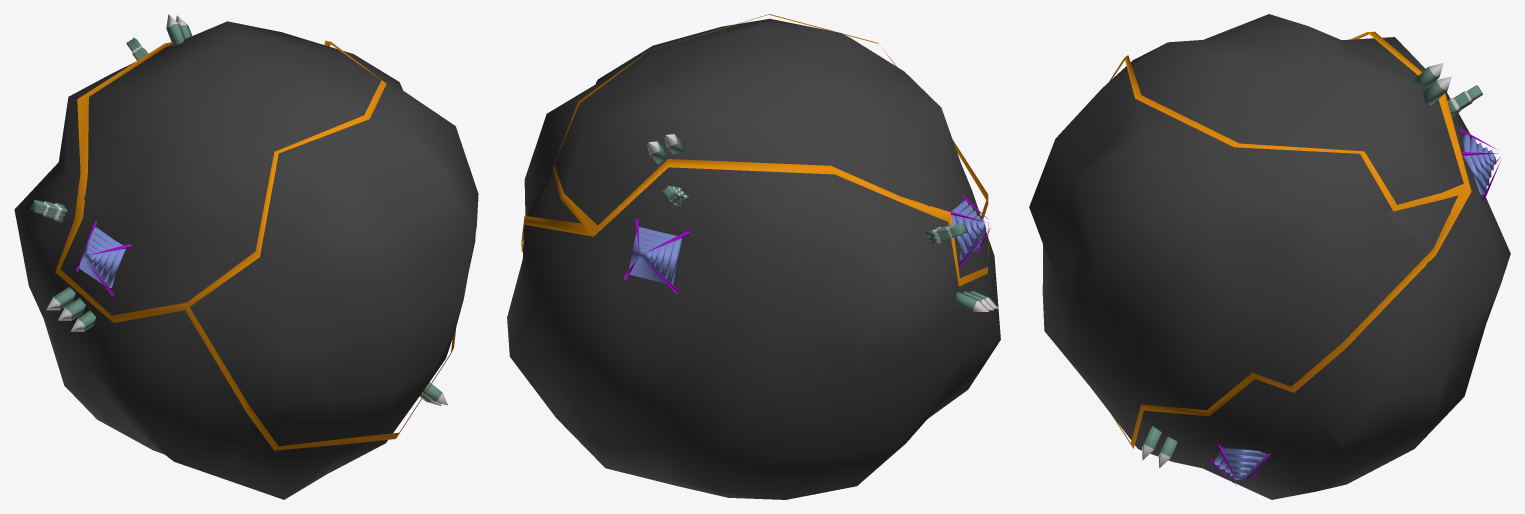
The model's file is cityplanet.fbx.
3 renders of one model, left to right at view 1: azimuth 30°, elevation 25°; view 2: azimuth 150°, elevation 25°; view 3: azimuth 270°, elevation 25°, orthographic. The views are drawn at different scales.
Visible parts, largest first — view 1: Icosphere, Plane, Cube_002; view 2: Icosphere, Plane, Cube, Cube_002; view 3: Icosphere, Plane, Cube, Cube_001.
Boxes of the visible parts, left/top/right/bottom form: Icosphere: left=14, top=14, right=478, bottom=499; Plane: left=55, top=40, right=456, bottom=450; Cube_002: left=76, top=221, right=131, bottom=296; Icosphere: left=507, top=18, right=1000, bottom=499; Plane: left=521, top=14, right=988, bottom=286; Cube: left=624, top=218, right=689, bottom=292; Cube_002: left=944, top=195, right=990, bottom=268; Icosphere: left=1029, top=14, right=1510, bottom=499; Plane: left=1109, top=31, right=1471, bottom=448; Cube: left=1459, top=128, right=1501, bottom=203; Cube_001: left=1207, top=444, right=1270, bottom=485.
Size of the model in its own units: 2.17 by 2.02 by 2.14.
